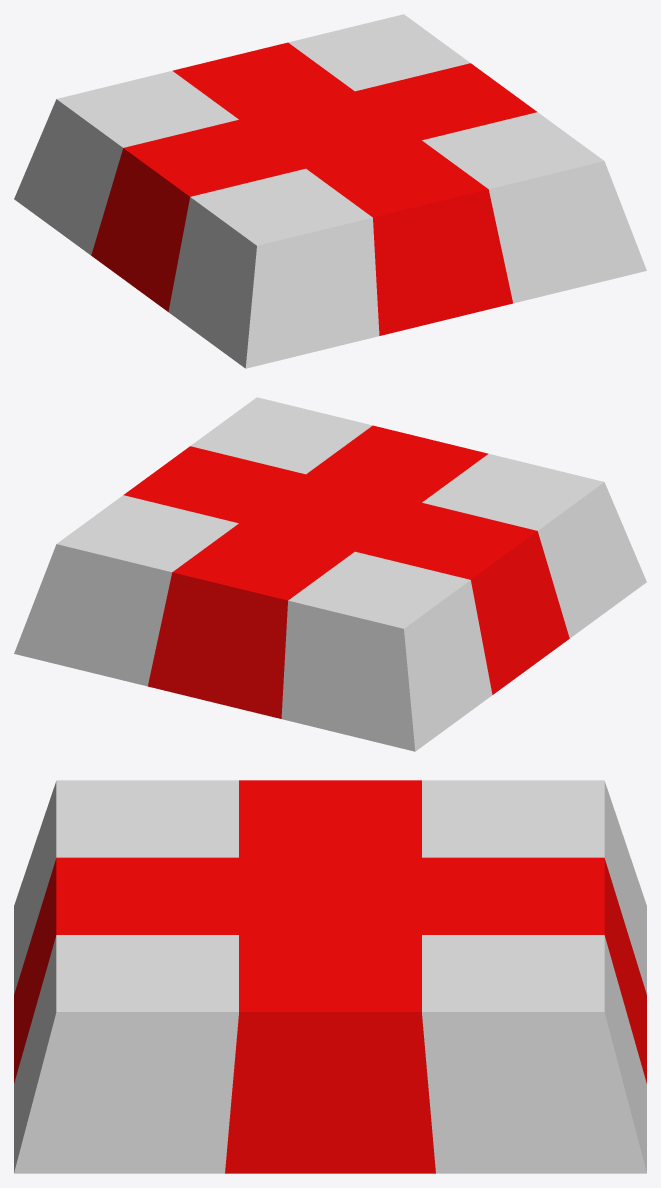
The model's file is LifePack.FBX.
3 views of the same model, one above another, from view 1: azimuth 30°, elevation 25°; view 2: azimuth 150°, elevation 25°; view 3: azimuth 270°, elevation 25° (orthographic). The views are drawn at different scales.
Parts seen in each view (by area): view 1: Box01, Object01; view 2: Box01, Object01; view 3: Box01, Object01.
Part boxes in pixels (left/top/right/bottom): Box01: left=14, top=14, right=646, bottom=368; Object01: left=91, top=42, right=537, bottom=335; Box01: left=14, top=397, right=646, bottom=751; Object01: left=123, top=425, right=569, bottom=718; Box01: left=14, top=780, right=646, bottom=1173; Object01: left=14, top=780, right=646, bottom=1173.
Size of the model in its own units: 80 by 20 by 80.
